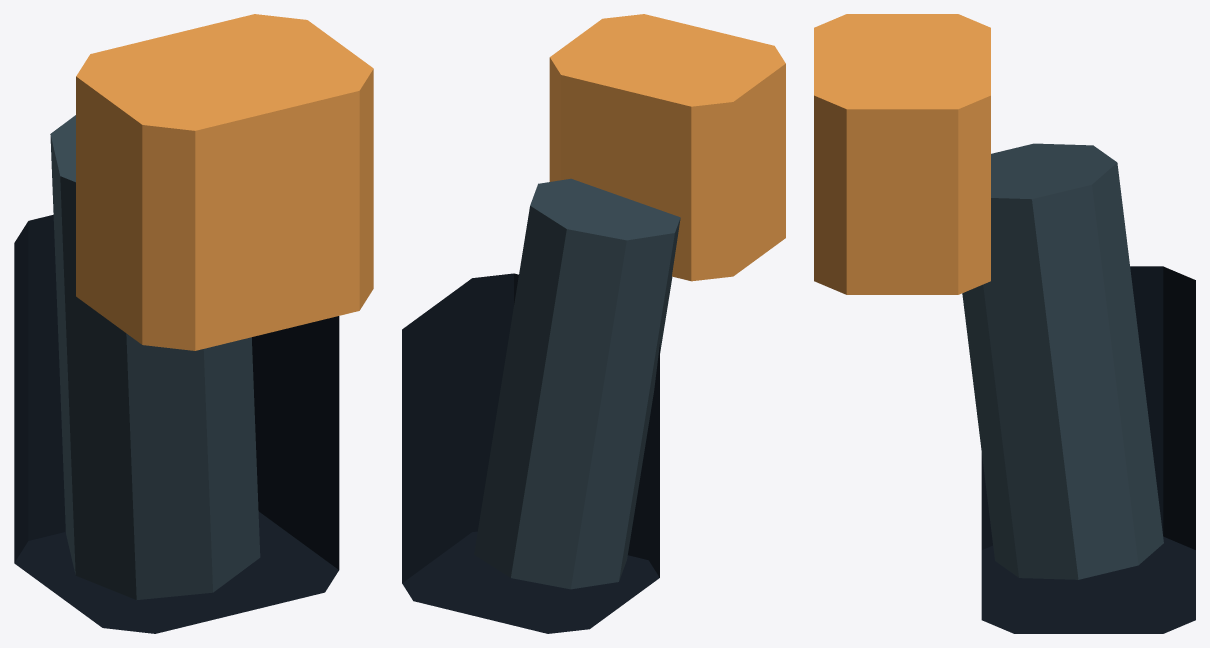
Rendered from enemy_runner_lod_shin_l.obj.
3 renders of one model, left to right at view 1: azimuth 30°, elevation 25°; view 2: azimuth 150°, elevation 25°; view 3: azimuth 270°, elevation 25°, orthographic. The views are drawn at different scales.
Bounding box in the file's own units: 0.3097 × 0.59 × 0.41.
